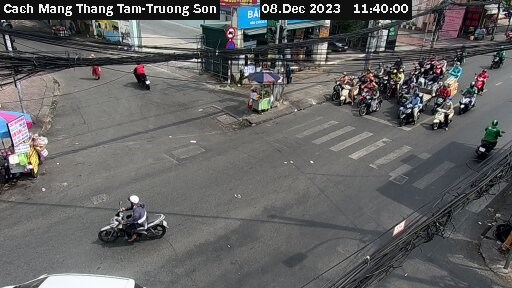car: (2, 259, 165, 288)
motorbike: (95, 201, 183, 244), (128, 59, 161, 100), (461, 120, 495, 158), (388, 88, 420, 123), (352, 83, 386, 115), (424, 94, 451, 133), (449, 81, 477, 115), (471, 61, 498, 96), (486, 41, 512, 71), (445, 60, 475, 85), (337, 81, 362, 108), (327, 76, 348, 96)
